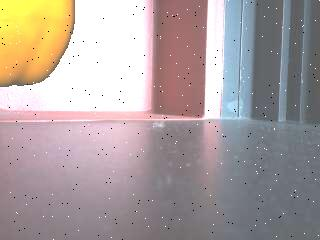Tomato: (0, 0, 75, 88)
